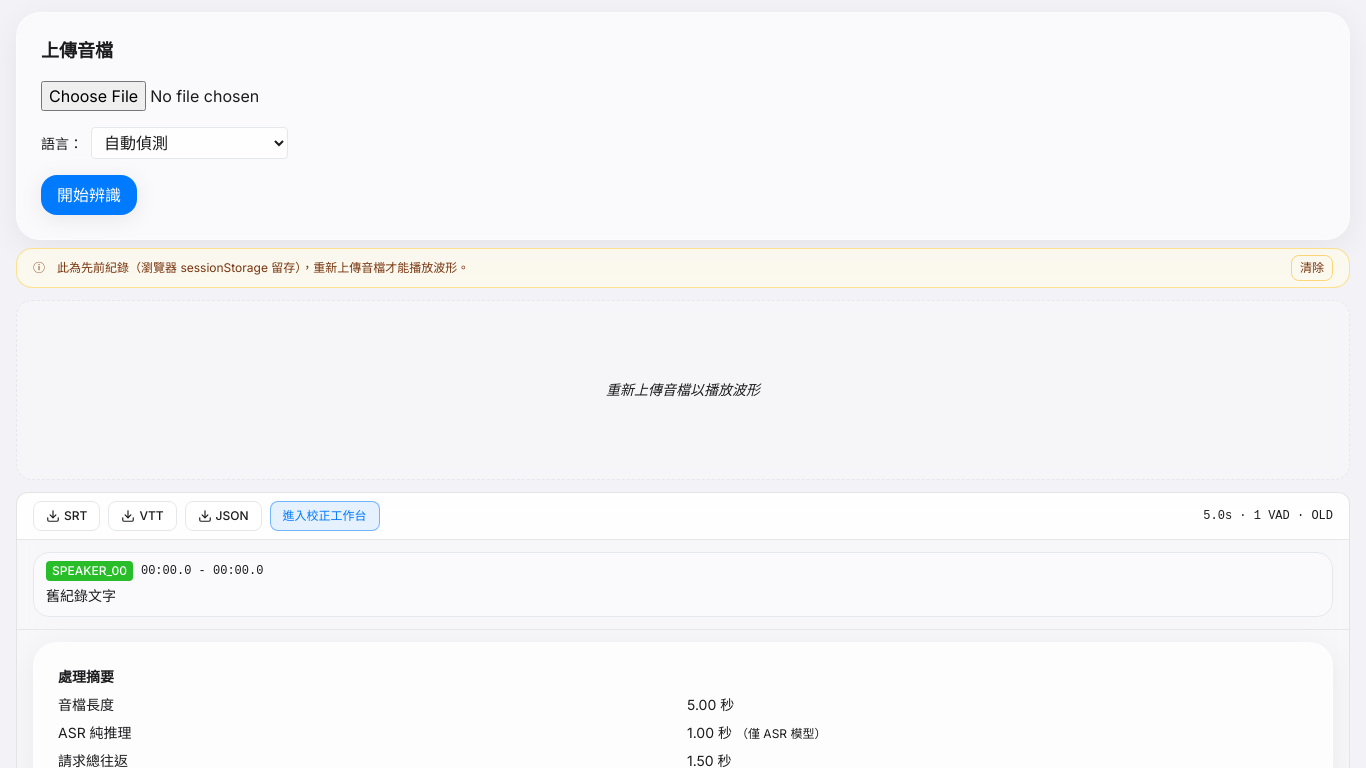
HomePage rehydrate banner › 清除 button removes banner + result + sessionStorage entry
Click the button "清除" at (1312, 268), box [1291, 255, 1333, 281]
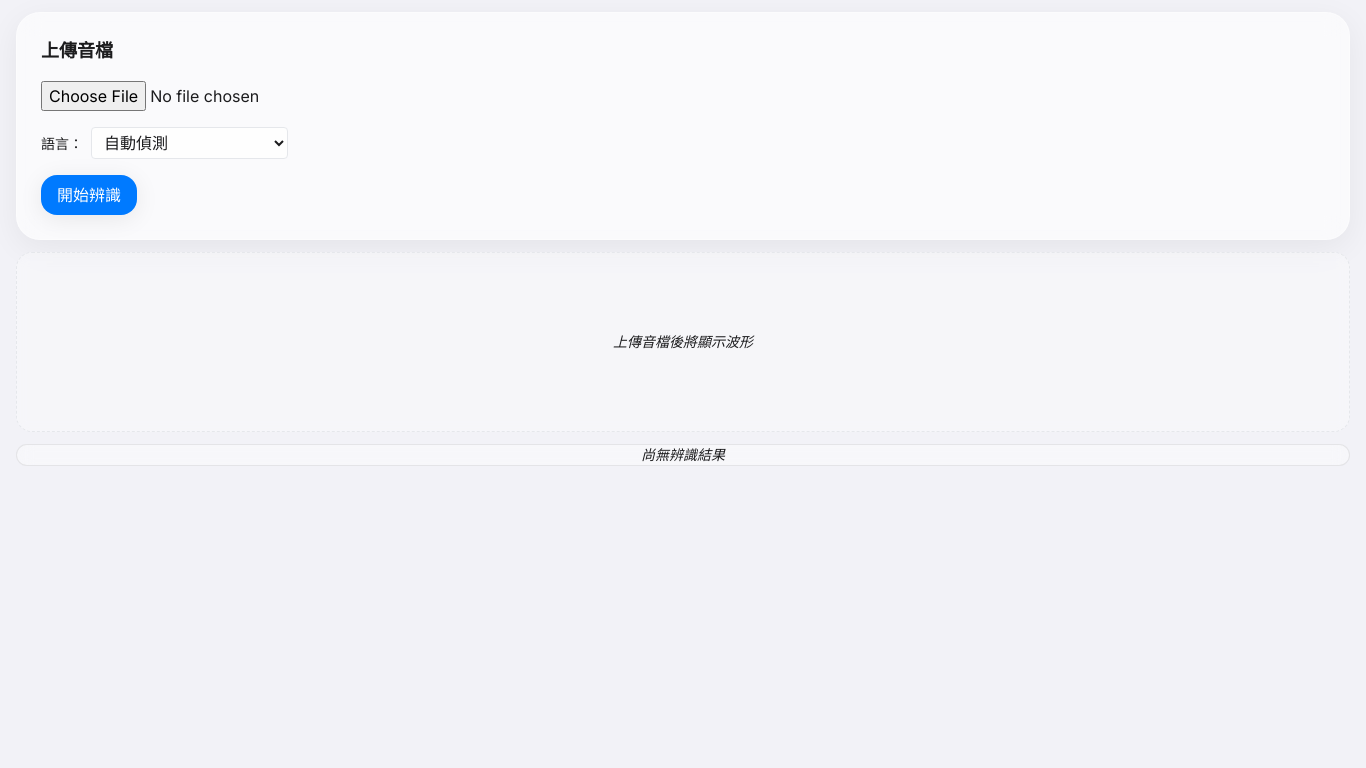
Result: the text "此為先前紀錄" is gone
Result: the button "舊紀錄文字" is gone
